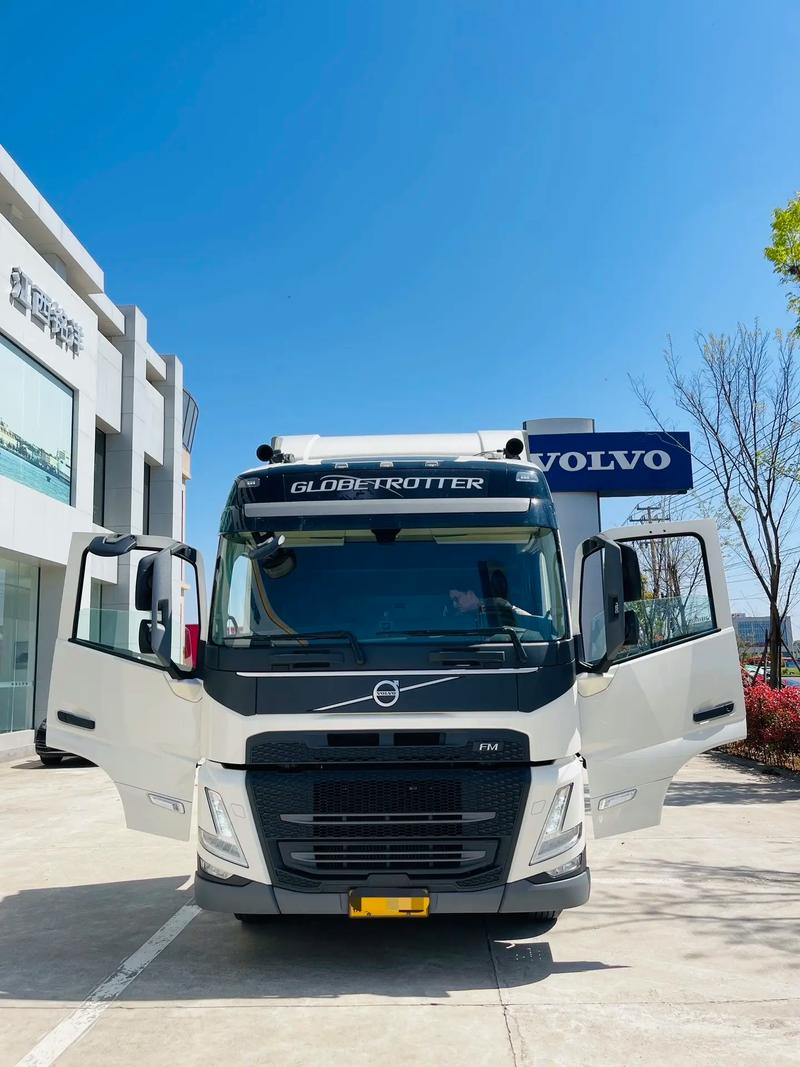卡车: (208, 424, 587, 934)
